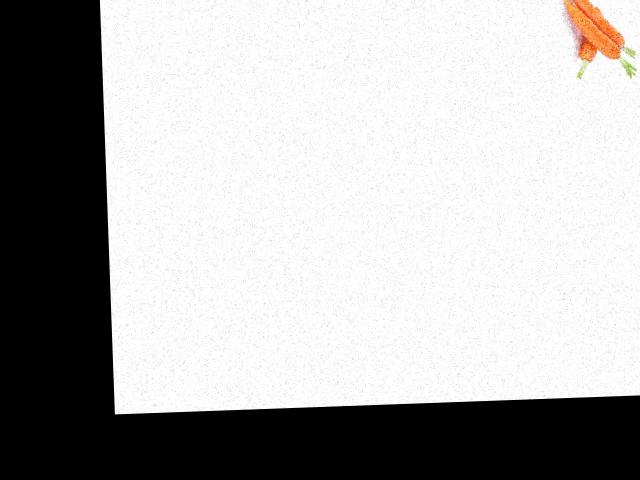carrot: (576, 2, 607, 77)
